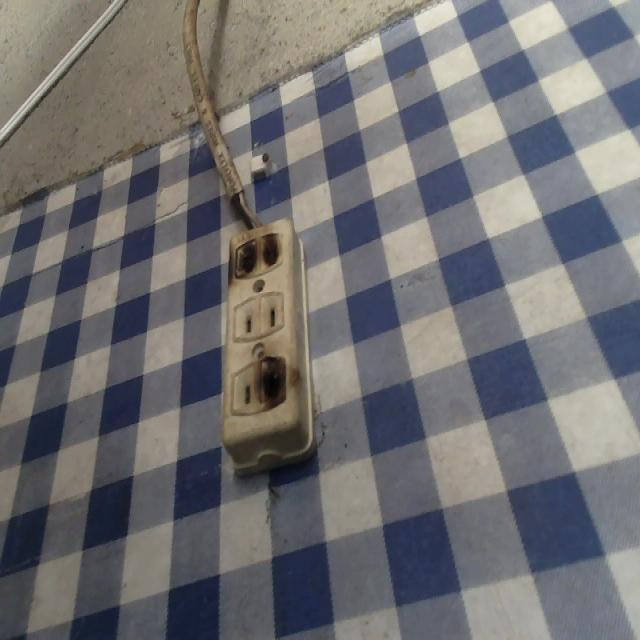-: (251, 348, 305, 415), (220, 230, 283, 286)
